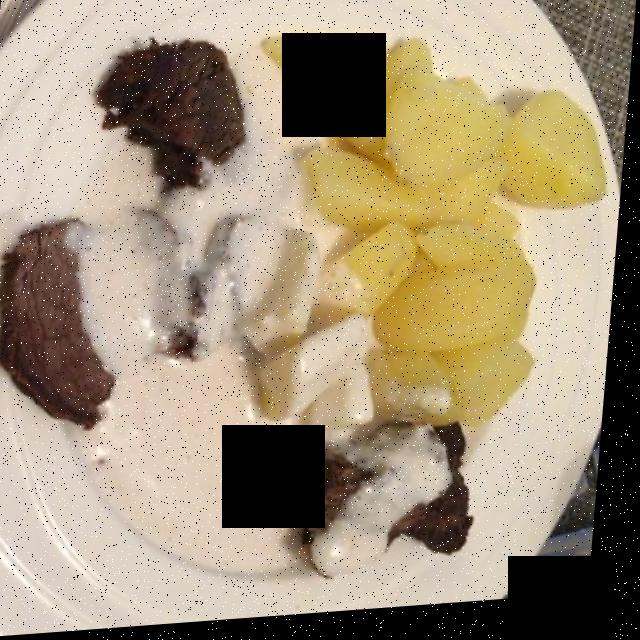beef-roast: (24, 39, 472, 567)
fruit-salad: (63, 44, 607, 570)
potatoes-steamed: (248, 27, 604, 446)
